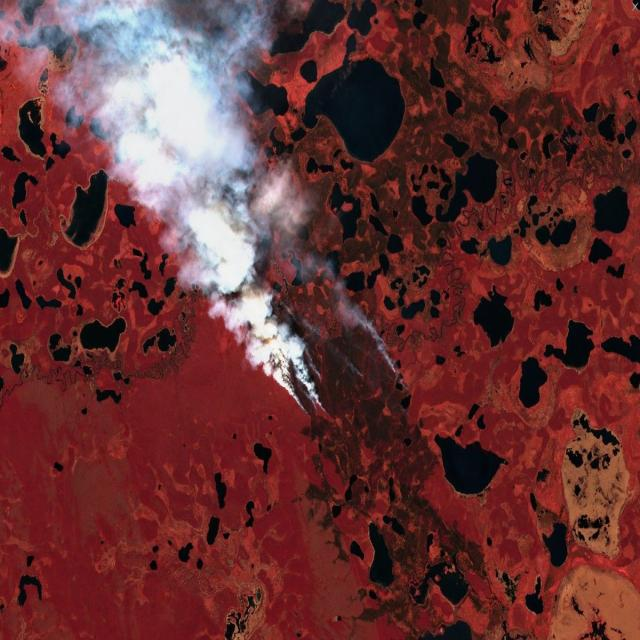fire: (265, 292, 419, 461), (380, 578, 402, 610)
